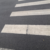zebra: (1, 1, 50, 36)
